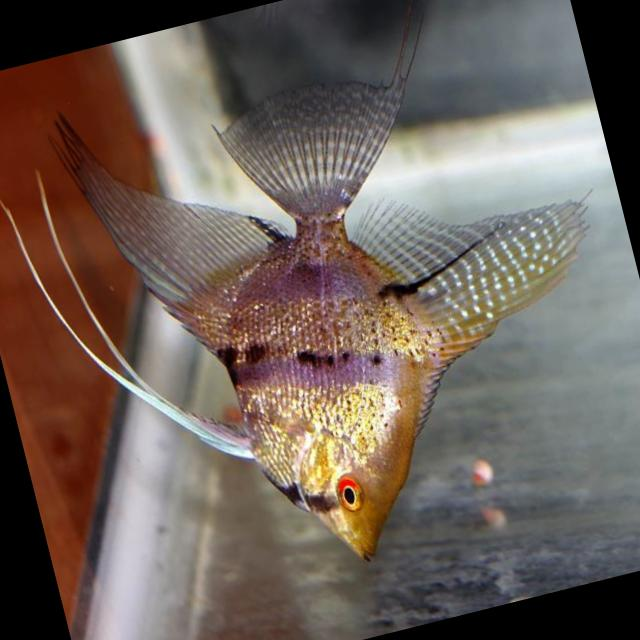AngelFish: (41, 0, 640, 611)
